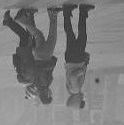person: (17, 7, 62, 106), (59, 2, 95, 109), (2, 9, 41, 101)
